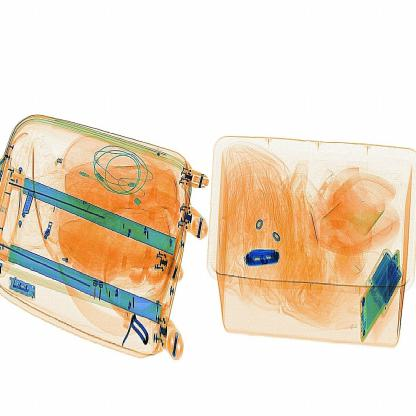scissors: (238, 231, 302, 287)
